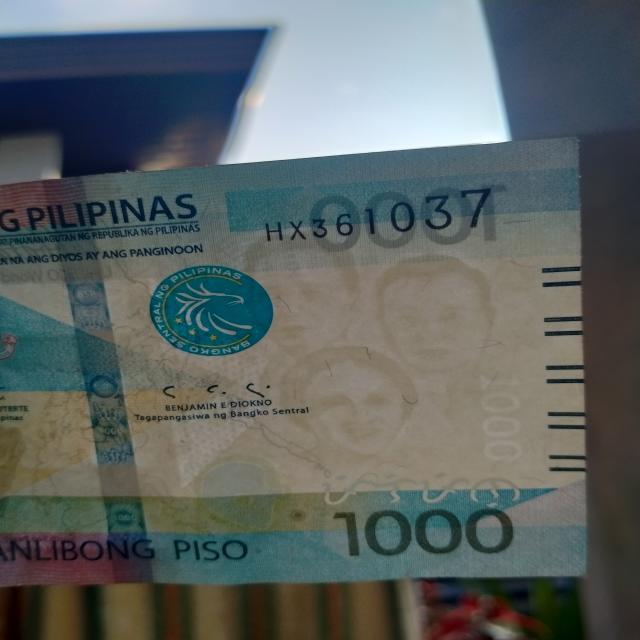security_thread: (47, 171, 158, 580)
see_through_mark: (296, 463, 532, 516)
value_watermark: (465, 367, 533, 466)
watermark: (224, 215, 509, 475)
